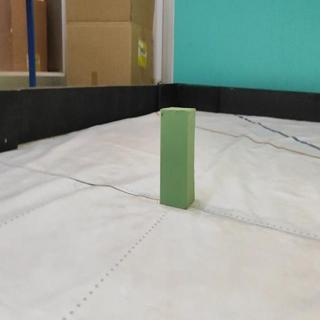greenbox: (158, 106, 197, 210)
